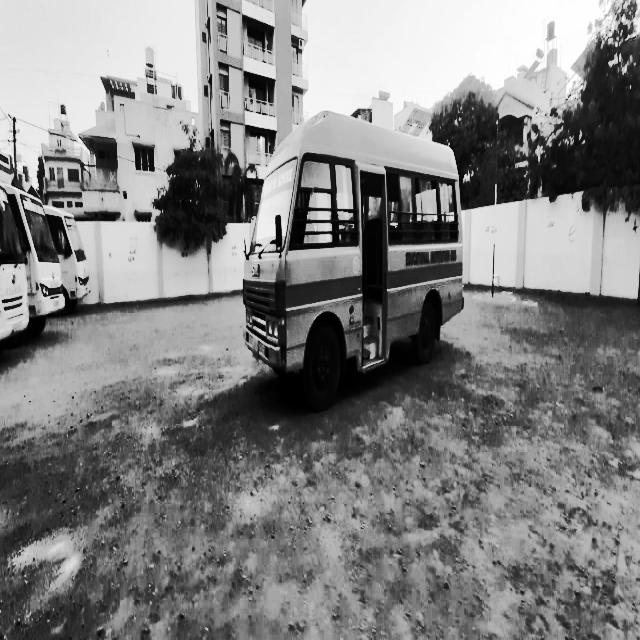Bus: (240, 91, 478, 402), (24, 195, 67, 332), (2, 195, 30, 351), (59, 204, 93, 319)
